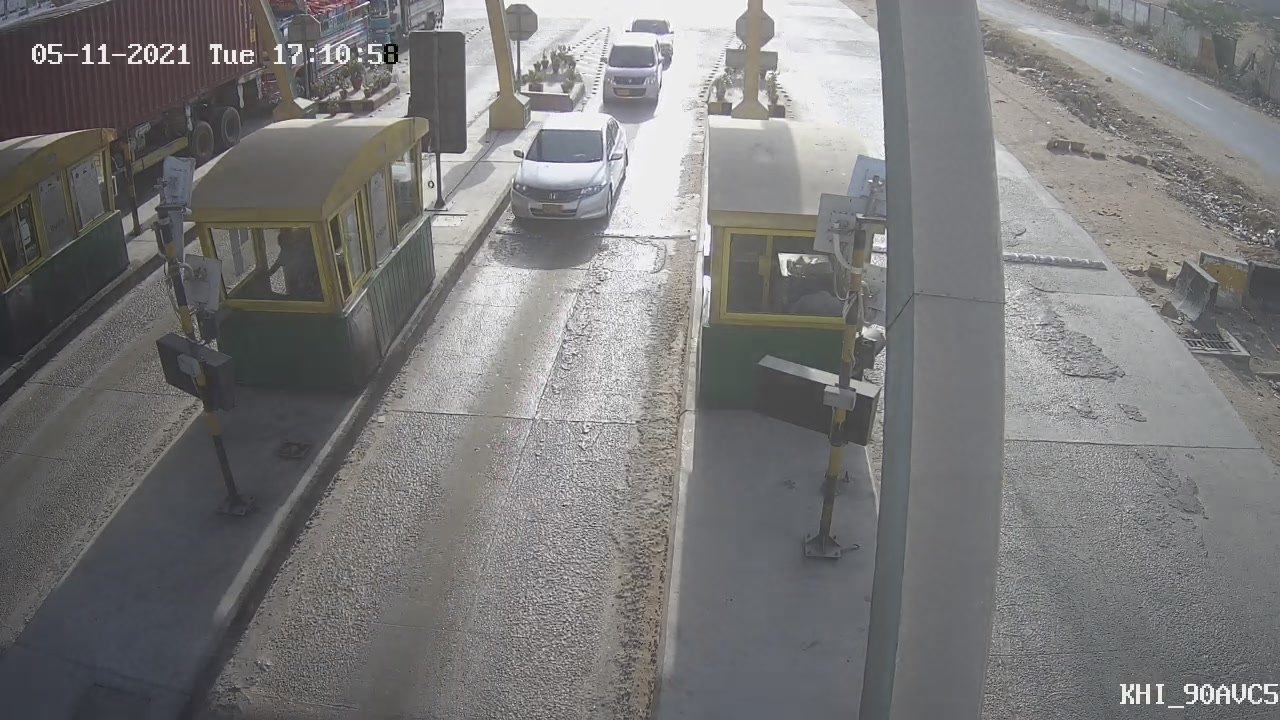F1: (489, 96, 648, 252)
